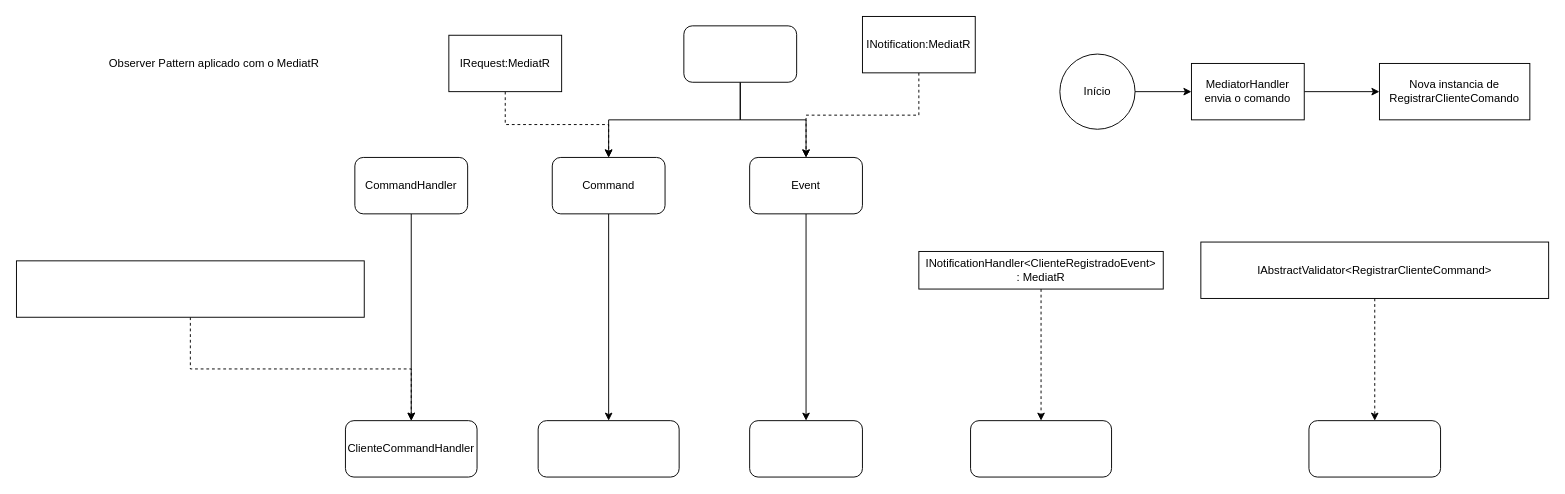
Some shapes in this 1565 by 494 pixel diagram are drawn without their labels. The box of each missing label's shape, as (x1, y1, x2, y2) in pixels:
ClienteEventHandler: (970, 420, 1112, 477)
ClienteRegistradoEvent: (749, 420, 862, 477)
IRequestHandler<RegistrarClienteCommand,ValidationResult> :MediatR: (16, 260, 364, 317)
Message: (683, 25, 797, 82)
RegistrarClienteCommand: (537, 420, 679, 477)
RegistrarClienteValidation: (1308, 420, 1441, 477)
